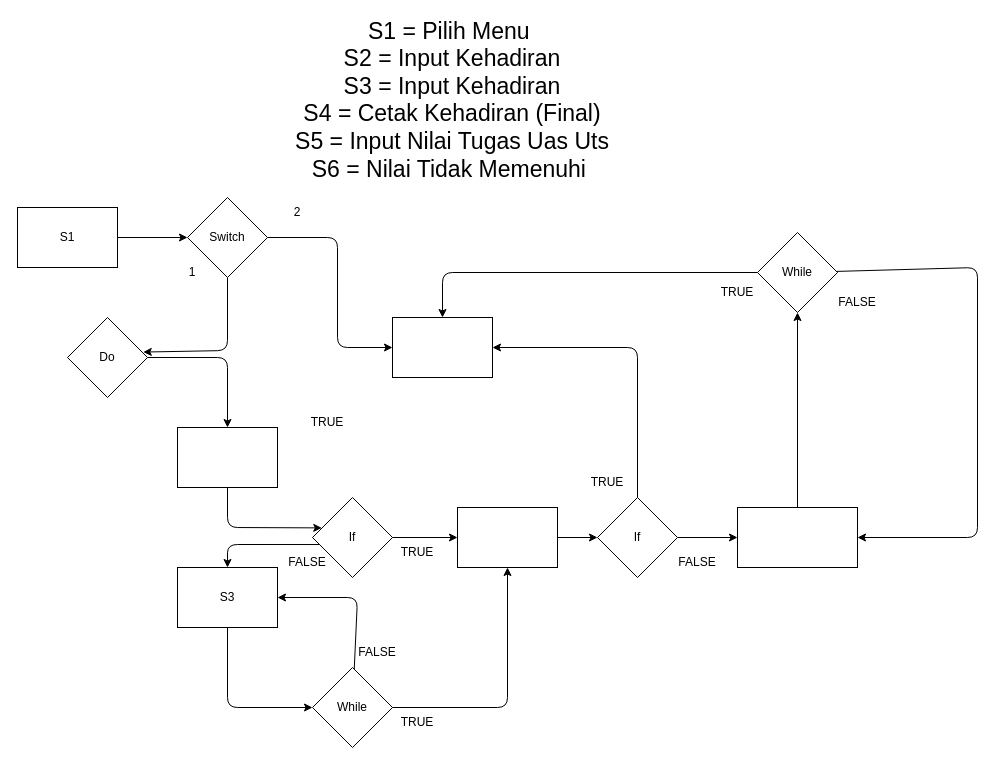
This 1003x765 diagram has some shape labels left out. Here are the shapes that lost their labels. From the top down, the centre of each, then its label:
the point at 442,347: S4
the point at 227,457: S2
the point at 507,537: S5
the point at 797,537: S6
